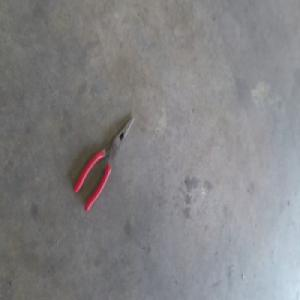Pliers: (75, 115, 135, 212)
